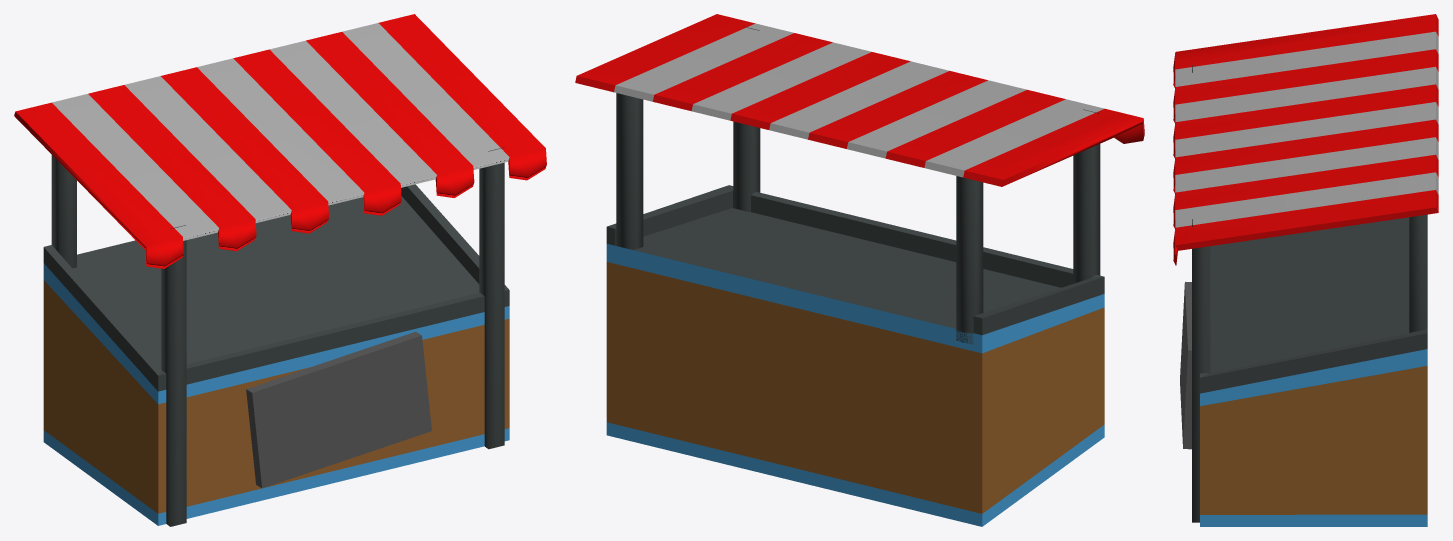
The model's file is Street_Stend.fbx.
The picture shows the model from 3 angles, left to right: view 1: azimuth 30°, elevation 25°; view 2: azimuth 150°, elevation 25°; view 3: azimuth 270°, elevation 25°; orthographic projection. The views are drawn at different scales.
Visible parts, largest first — view 1: Street_Stend; view 2: Street_Stend; view 3: Street_Stend.
Boxes of the visible parts, bbox=[...] form: Street_Stend: bbox=[14, 14, 546, 526]; Street_Stend: bbox=[575, 14, 1144, 526]; Street_Stend: bbox=[1173, 14, 1438, 526].
Bounding box in the file's own units: 3 × 2.39 × 1.74.
